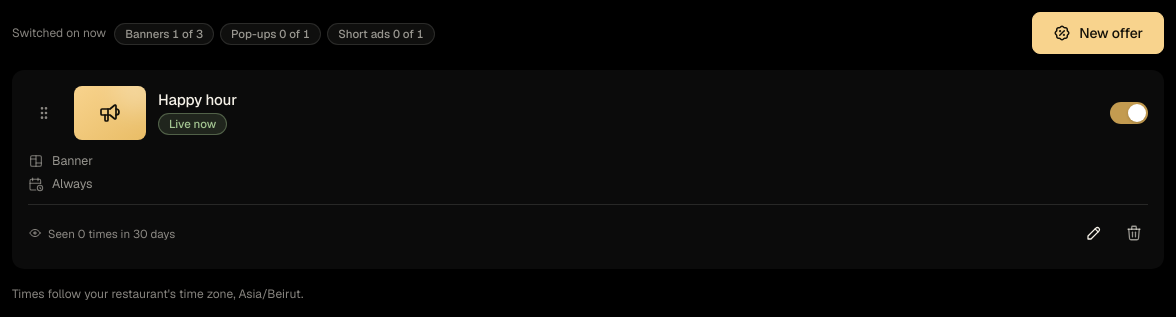
it: OffersPage › pauses an offer from its card at once
The width and height of the screenshot is (1176, 317).
Click the switch named "Show Happy hour on the menu".
click(1129, 113)  # box [1110,102,1148,124]
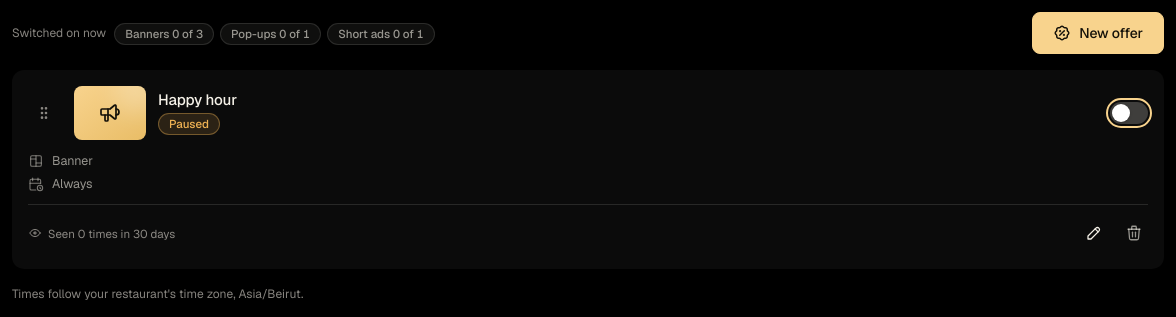
Result: the text "Paused" is shown at [158,113,220,135]
